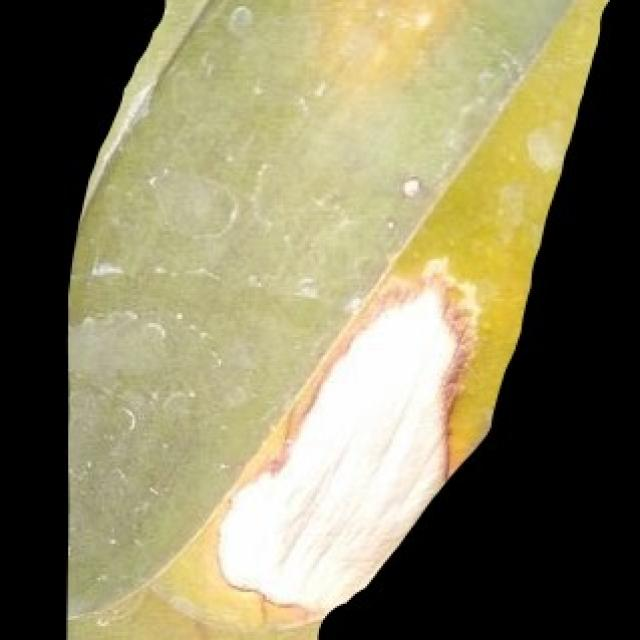mite: (205, 0, 279, 52), (377, 167, 429, 237), (219, 0, 261, 40), (225, 2, 253, 34), (399, 175, 421, 199), (383, 215, 397, 233)
spots: (62, 0, 622, 638)
